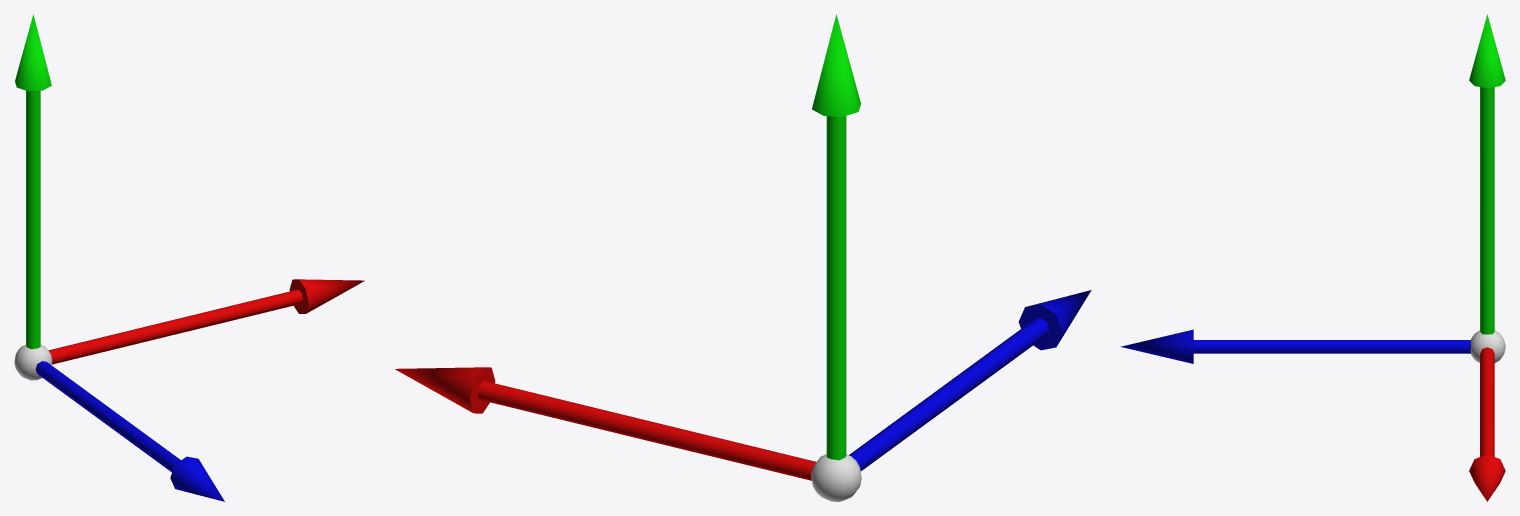
Rendered from position handle.glb.
3 renders of one model, left to right at view 1: azimuth 30°, elevation 25°; view 2: azimuth 150°, elevation 25°; view 3: azimuth 270°, elevation 25°, orthographic. The views are drawn at different scales.
Parts seen in each view (by area): view 1: Circle; view 2: Circle; view 3: Circle.
Boxes of the visible parts, x1,y1,x2,y2 form: Circle: (14, 14, 364, 501); Circle: (395, 14, 1091, 501); Circle: (1120, 14, 1505, 501).
Size of the model in its own units: 1.05 by 1.05 by 1.05.
